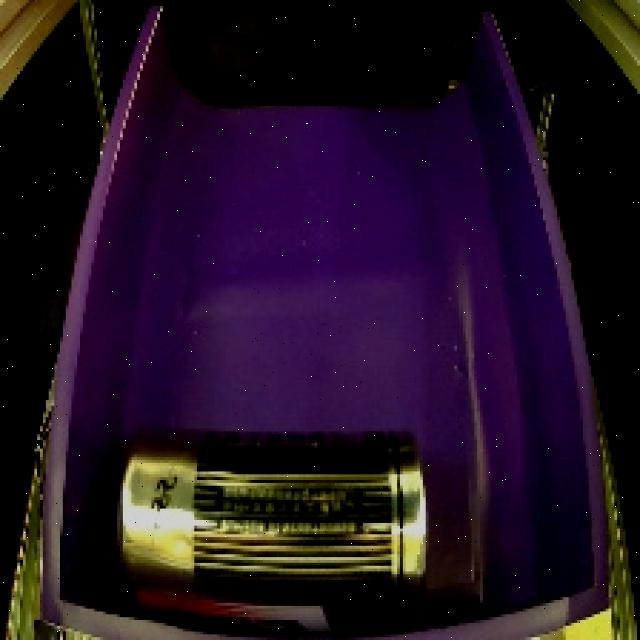battery: (105, 412, 443, 640)
